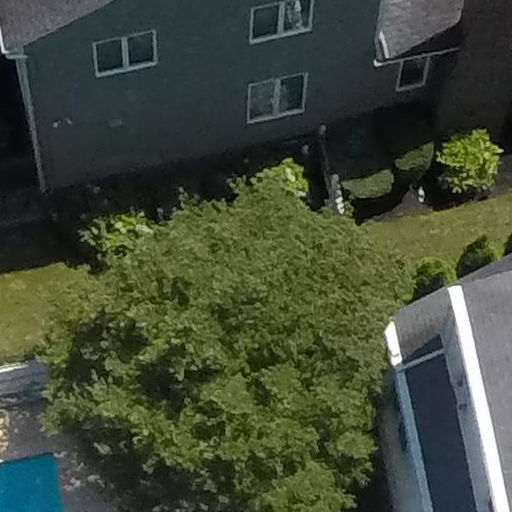pool: (2, 434, 100, 512)
